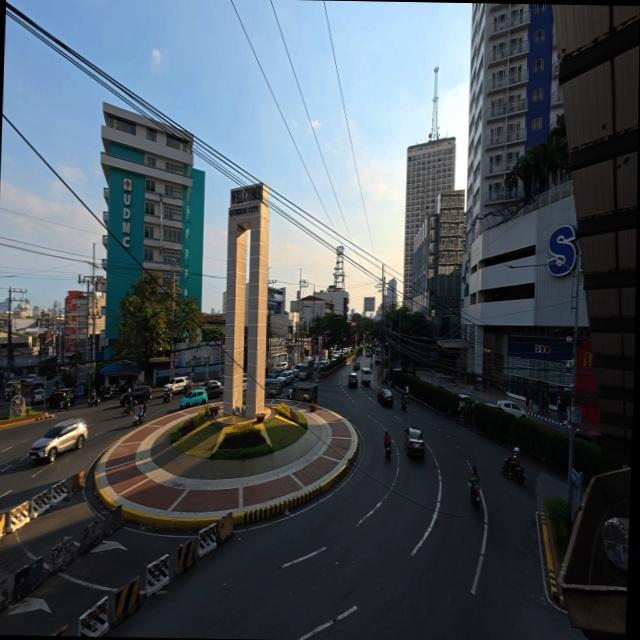Jeepneys: (288, 384, 317, 403)
bus: (375, 348, 381, 363)
car: (30, 419, 88, 462), (120, 385, 151, 405), (45, 389, 77, 408), (179, 388, 208, 408), (404, 428, 424, 455), (497, 401, 527, 417), (576, 430, 602, 446), (163, 377, 187, 394), (4, 380, 21, 400), (458, 394, 475, 413), (204, 382, 223, 399), (377, 388, 393, 406), (279, 370, 293, 386), (31, 389, 45, 405), (23, 373, 37, 388), (200, 380, 220, 389), (348, 372, 358, 387), (276, 362, 289, 373), (267, 370, 282, 379), (352, 360, 360, 371), (292, 367, 300, 378), (321, 358, 330, 367), (243, 375, 247, 390), (314, 360, 319, 371), (366, 350, 371, 357)
motorcycle: (502, 456, 525, 484), (470, 487, 481, 506), (133, 410, 145, 426), (87, 392, 99, 407), (57, 398, 70, 411), (122, 402, 134, 416), (101, 386, 113, 400), (163, 388, 172, 404), (384, 443, 390, 458), (401, 399, 407, 411), (54, 381, 59, 390)
trucks: (297, 358, 315, 379)
vans: (360, 367, 372, 384)
